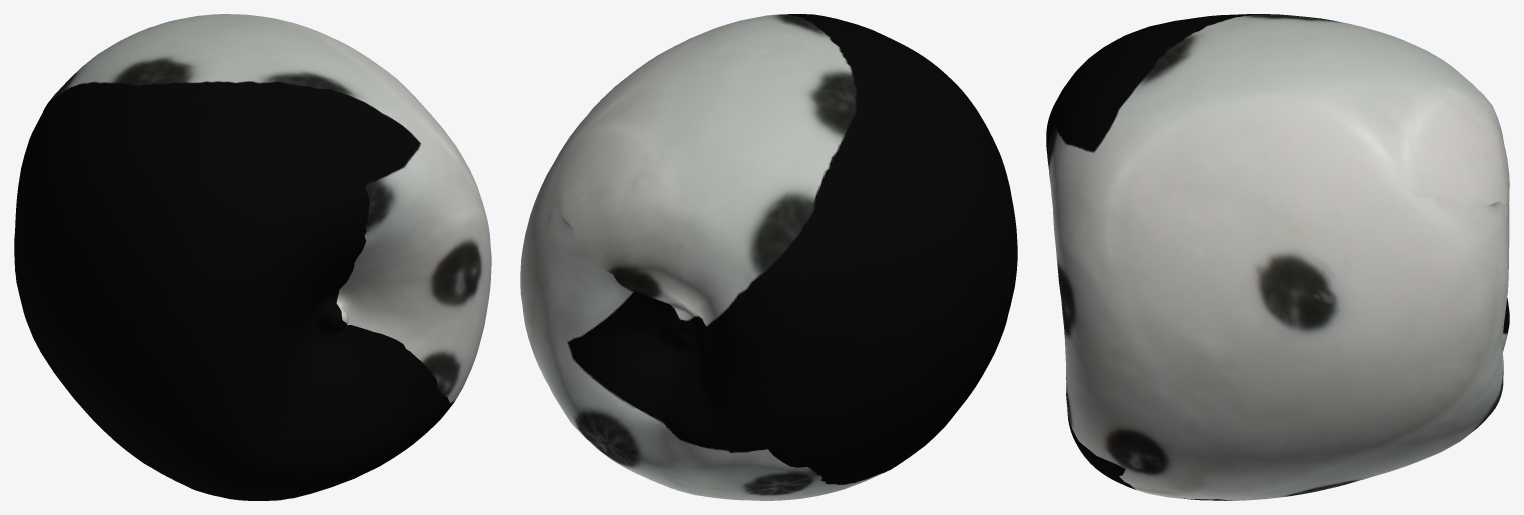
3 renders of one model, left to right at view 1: azimuth 30°, elevation 25°; view 2: azimuth 150°, elevation 25°; view 3: azimuth 270°, elevation 25°, orthographic. The views are drawn at different scales.
Parts seen in each view (by area): view 1: textured.012; view 2: textured.012; view 3: textured.012.
Part boxes in pixels (left/top/right/bottom): textured.012: left=14, top=14, right=491, bottom=500; textured.012: left=520, top=14, right=1017, bottom=500; textured.012: left=1046, top=14, right=1509, bottom=500.
Size of the model in its own units: 0.0749 by 0.0754 by 0.0719.
